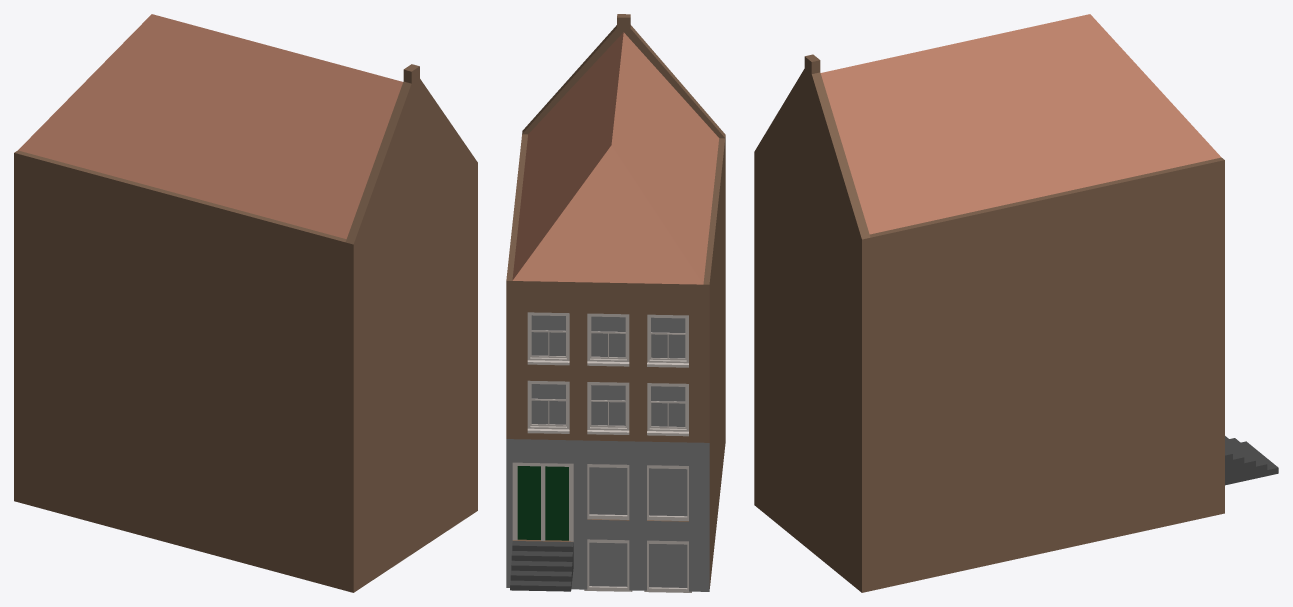
Rendered from Grote_Kattenburgerstraat_6.fbx.
3 views of the same model, side by side, from view 1: azimuth 30°, elevation 25°; view 2: azimuth 150°, elevation 25°; view 3: azimuth 270°, elevation 25° (orthographic). The views are drawn at different scales.
Visible parts, largest first — view 1: Grote_Kattenburgerstraat_6_walls, Grote_Kattenburgerstraat_6_walls_ground_floor, Grote_Kattenburgerstraat_6_roof; view 2: Grote_Kattenburgerstraat_6_roof, Grote_Kattenburgerstraat_6_walls, Grote_Kattenburgerstraat_6_walls_ground_floor, Grote_Kattenburgerstraat_6_window_frames, Grote_Kattenburgerstraat_6_window_frames.001, window_frame_type4.009, Grote_Kattenburgerstraat_6_stairs, window_frame_type4_glass.005, window_frame_type4_glass, window_frame_type4_glass.003, window_frame_type4_glass.002, window_frame_type4_glass.004 (+1 smaller); view 3: Grote_Kattenburgerstraat_6_walls, Grote_Kattenburgerstraat_6_walls_ground_floor, Grote_Kattenburgerstraat_6_roof, Grote_Kattenburgerstraat_6_stairs.
Boxes of the visible parts, box(x1,y1,x2,y2) form: Grote_Kattenburgerstraat_6_walls: box(14, 150, 477, 423); Grote_Kattenburgerstraat_6_walls_ground_floor: box(14, 332, 477, 592); Grote_Kattenburgerstraat_6_roof: box(18, 14, 477, 244); Grote_Kattenburgerstraat_6_roof: box(512, 14, 725, 284); Grote_Kattenburgerstraat_6_walls: box(506, 134, 725, 442); Grote_Kattenburgerstraat_6_walls_ground_floor: box(506, 295, 725, 591); Grote_Kattenburgerstraat_6_window_frames: box(512, 462, 691, 592); Grote_Kattenburgerstraat_6_window_frames.001: box(589, 467, 687, 587); window_frame_type4.009: box(527, 312, 688, 436); Grote_Kattenburgerstraat_6_stairs: box(510, 541, 573, 591); window_frame_type4_glass.005: box(651, 386, 685, 426); window_frame_type4_glass: box(531, 315, 565, 355); window_frame_type4_glass.003: box(531, 384, 565, 424); window_frame_type4_glass.002: box(651, 317, 685, 358); window_frame_type4_glass.004: box(591, 385, 625, 425); Grote_Kattenburgerstraat_6_walls: box(754, 152, 1224, 421); Grote_Kattenburgerstraat_6_walls_ground_floor: box(754, 334, 1224, 592); Grote_Kattenburgerstraat_6_roof: box(754, 14, 1221, 239); Grote_Kattenburgerstraat_6_stairs: box(1225, 436, 1278, 485).
Size of the model in its own units: 10.58 by 14.52 by 14.02.
